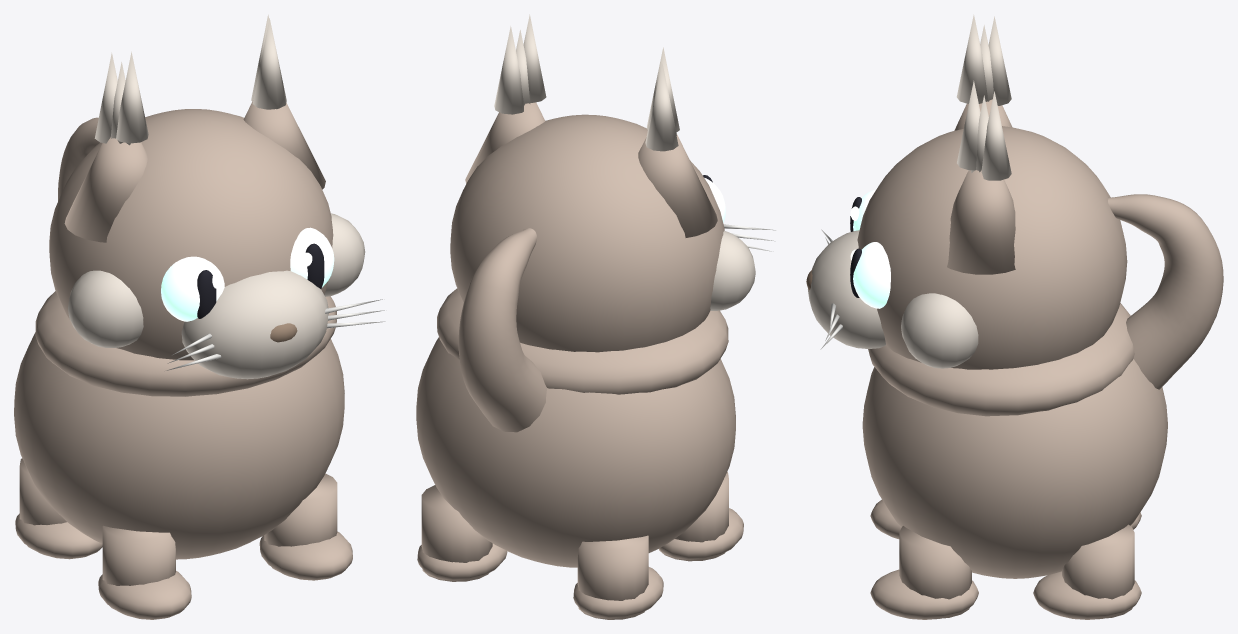
File: mainecoon_elder.glb
3 views of the same model, side by side, from view 1: azimuth 30°, elevation 25°; view 2: azimuth 150°, elevation 25°; view 3: azimuth 270°, elevation 25° (orthographic). The views are drawn at different scales.
Parts seen in each view (by area): view 1: mainecoon_elder; view 2: mainecoon_elder; view 3: mainecoon_elder.
Boxes of the visible parts, <box> form: mainecoon_elder: <box>14,14,385,619</box>; mainecoon_elder: <box>416,14,775,619</box>; mainecoon_elder: <box>806,14,1223,619</box>.
Size of the model in its own units: 1.21 by 2.12 by 1.52.
